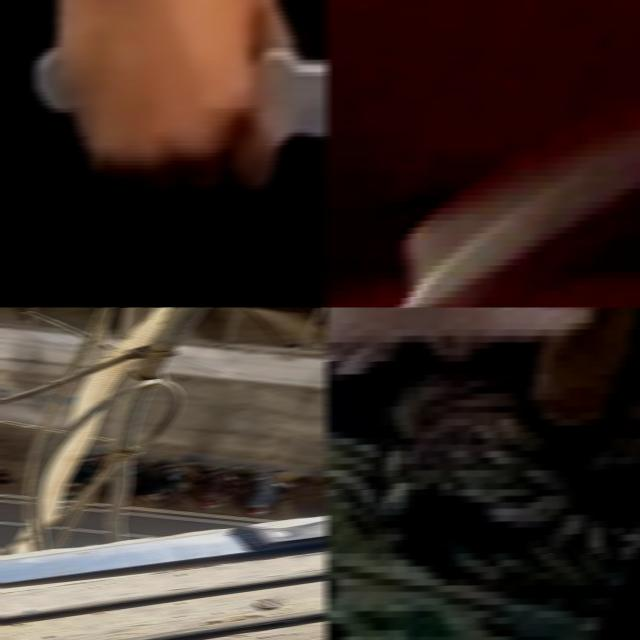Knife: (0, 516, 328, 585), (252, 48, 328, 158)
Knife_Handle: (391, 0, 640, 307), (48, 0, 328, 207), (324, 307, 596, 425)
